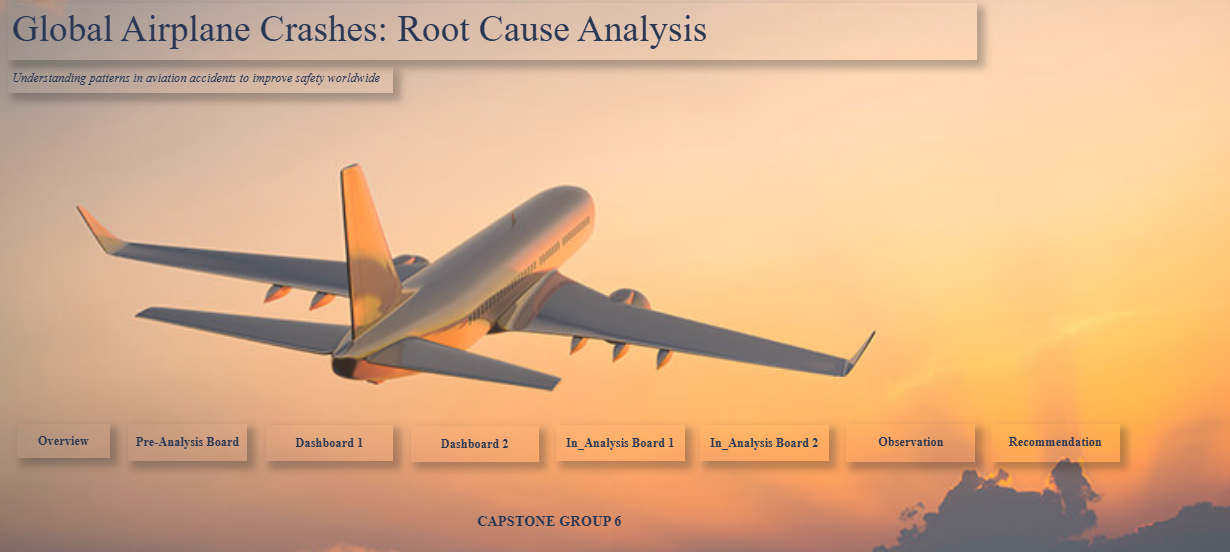

The page's visual inventory and layout, read from the dashboard file:
{"tool":"powerbi","page":{"name":"Home","canvas":[1590,720],"ordinal":0},"visuals":[{"type":"textbox","box":[216,158.6,1055.2,52.9],"z":0},{"type":"image","box":[0,0,1590,719.9],"z":1000},{"type":"textbox","box":[13.5,9,1249.9,74.2],"z":2000,"group":"g1"},{"type":"actionButton","box":[24.8,551.9,119.7,44],"z":2000},{"type":"textbox","box":[13.5,91.1,497.2,33.8],"z":3000,"group":"g1"},{"type":"actionButton","box":[167.8,551.9,154.2,48.2],"z":3000},{"type":"actionButton","box":[345.2,553.3,163.8,46.8],"z":4000},{"type":"group","id":"g1","title":"Group 1","box":[13.5,9,1249.9,115.9],"z":5000},{"type":"actionButton","box":[720.1,553.5,166,47.2],"z":6000},{"type":"actionButton","box":[1094.8,552.4,167.4,48.7],"z":7000},{"type":"actionButton","box":[1280.9,552.4,166,48.7],"z":8000},{"type":"textbox","box":[587.8,662.1,246,57.8],"z":9000},{"type":"actionButton","box":[532.4,555.3,164.6,45.8],"z":10000},{"type":"actionButton","box":[905.9,553.9,166,47.2],"z":11000}]}

Visuals, with their boxes in screenshot pixels (x1, y1, x2, y2), scaled from the page's 1590x720 canvas onto the 1230x552 screenshot:
textbox: bbox(167, 122, 983, 162)
image: bbox(0, 0, 1229, 551)
textbox: bbox(10, 7, 977, 64)
actionButton: bbox(19, 423, 112, 457)
textbox: bbox(10, 70, 395, 96)
actionButton: bbox(130, 423, 249, 460)
actionButton: bbox(267, 424, 394, 460)
"Group 1" group: bbox(10, 7, 977, 96)
actionButton: bbox(557, 424, 685, 461)
actionButton: bbox(847, 424, 976, 461)
actionButton: bbox(991, 424, 1119, 461)
textbox: bbox(455, 508, 645, 551)
actionButton: bbox(412, 426, 539, 461)
actionButton: bbox(701, 425, 829, 461)
